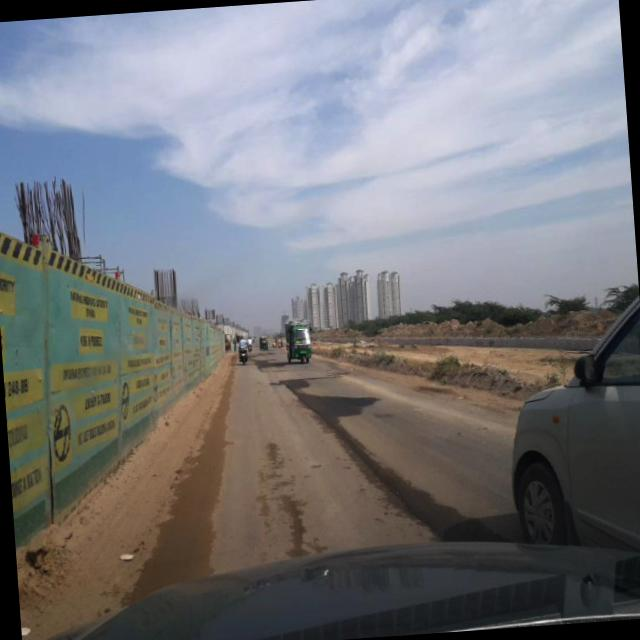pothole: (284, 368, 436, 543)
